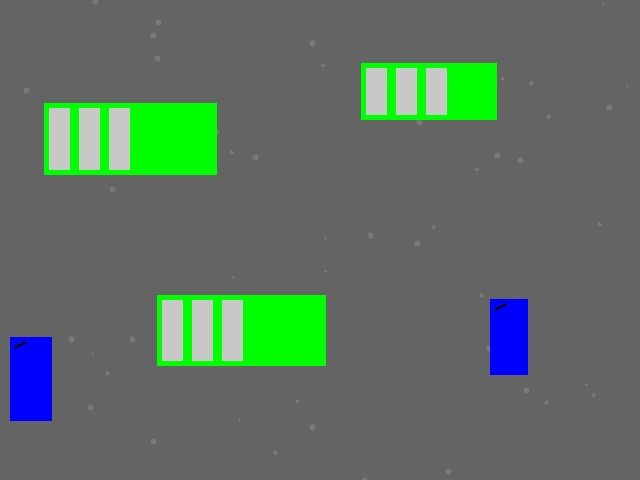bus: (44, 103, 216, 174), (157, 295, 325, 365), (361, 63, 496, 119)
motorcycle: (10, 337, 51, 420), (490, 299, 527, 374)
